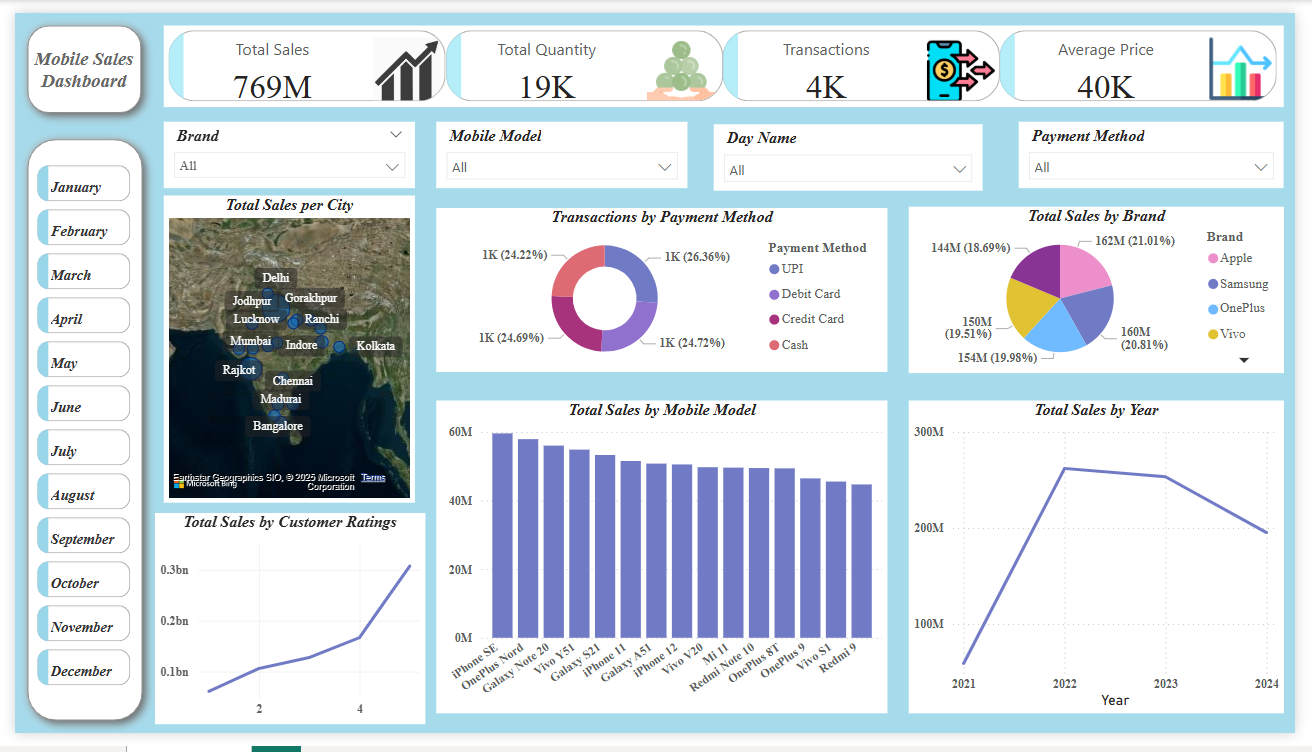

This screenshot's page, from the dashboard's own definition file:
{"tool":"powerbi","page":{"name":"Dashboard","canvas":[1280,720],"ordinal":0},"visuals":[{"type":"shape","box":[0,0,138.8,112.5],"z":0},{"type":"shape","box":[0,113.8,140,606.2],"z":1000},{"type":"advancedSlicerVisual","fields":{"Values":["Mobile_Sales_Data.Date.Variation.Date Hierarchy.Month"]},"box":[17.5,147.5,103.8,540],"z":2000},{"type":"cardVisual","fields":{"Data":["Mobile_Sales_Data.Total Sales","Mobile_Sales_Data.Total Quantity","Mobile_Sales_Data.Transactions","Mobile_Sales_Data.Average Price"]},"box":[148.8,12.5,1120,81.2],"z":3000},{"type":"map","title":"Total Sales per City","fields":{"Category":["Mobile_Sales_Data.City"],"Size":["Mobile_Sales_Data.Total Sales"]},"box":[148.8,182.5,251.2,307.5],"z":4000},{"type":"clusteredColumnChart","fields":{"Category":["Mobile_Sales_Data.Mobile Model"],"Y":["Mobile_Sales_Data.Total Sales"]},"box":[421.2,387.5,451.2,312.5],"z":5000},{"type":"pieChart","fields":{"Category":["Mobile_Sales_Data.Brand"],"Y":["Mobile_Sales_Data.Total Sales"]},"box":[893.8,193.8,375,166.2],"z":6000},{"type":"donutChart","title":"Transactions by Payment Method","fields":{"Y":["Mobile_Sales_Data.Transactions"],"Category":["Mobile_Sales_Data.Payment Method"]},"box":[421.2,195,451.2,163.8],"z":7000},{"type":"lineChart","fields":{"Y":["Mobile_Sales_Data.Total Sales"],"Category":["Mobile_Sales_Data.Customer Ratings"]},"box":[140,500,270,211.2],"z":8000},{"type":"slicer","fields":{"Values":["Mobile_Sales_Data.Brand"]},"box":[148.8,108.8,251.2,66.2],"z":9000},{"type":"slicer","fields":{"Values":["Mobile_Sales_Data.Mobile Model"]},"box":[421.2,108.8,251.2,66.2],"z":10000},{"type":"slicer","fields":{"Values":["Mobile_Sales_Data.Day Name"]},"box":[698.8,111.2,268.8,66.2],"z":11000},{"type":"slicer","fields":{"Values":["Mobile_Sales_Data.Payment Method"]},"box":[1003.8,108.8,265,66.2],"z":12000},{"type":"lineChart","fields":{"Y":["Mobile_Sales_Data.Total Sales"],"Category":["Mobile_Sales_Data.Date.Variation.Date Hierarchy.Year"]},"box":[893.8,387.5,375,312.5],"z":12001}]}

Visuals, with their boxes in screenshot pixels (x1, y1, x2, y2), scaled from the page's 1280x720 canvas onto the 1312x752 screenshot:
shape: crop(0, 0, 142, 118)
shape: crop(0, 119, 144, 751)
advancedSlicerVisual - Mobile_Sales_Data.Date.Variation.Date Hierarchy.Month: crop(18, 154, 124, 718)
cardVisual - Mobile_Sales_Data.Total Sales x Mobile_Sales_Data.Total Quantity: crop(153, 13, 1301, 98)
"Total Sales per City" map: crop(153, 191, 410, 512)
clusteredColumnChart - Mobile_Sales_Data.Mobile Model x Mobile_Sales_Data.Total Sales: crop(432, 405, 894, 731)
pieChart - Mobile_Sales_Data.Brand x Mobile_Sales_Data.Total Sales: crop(916, 202, 1301, 376)
"Transactions by Payment Method" donutChart: crop(432, 204, 894, 375)
lineChart - Mobile_Sales_Data.Total Sales x Mobile_Sales_Data.Customer Ratings: crop(144, 522, 420, 743)
slicer - Mobile_Sales_Data.Brand: crop(153, 114, 410, 183)
slicer - Mobile_Sales_Data.Mobile Model: crop(432, 114, 689, 183)
slicer - Mobile_Sales_Data.Day Name: crop(716, 116, 992, 185)
slicer - Mobile_Sales_Data.Payment Method: crop(1029, 114, 1301, 183)
lineChart - Mobile_Sales_Data.Total Sales x Mobile_Sales_Data.Date.Variation.Date Hierarchy.Year: crop(916, 405, 1301, 731)
